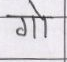o_matra: (30, 1, 51, 37)
